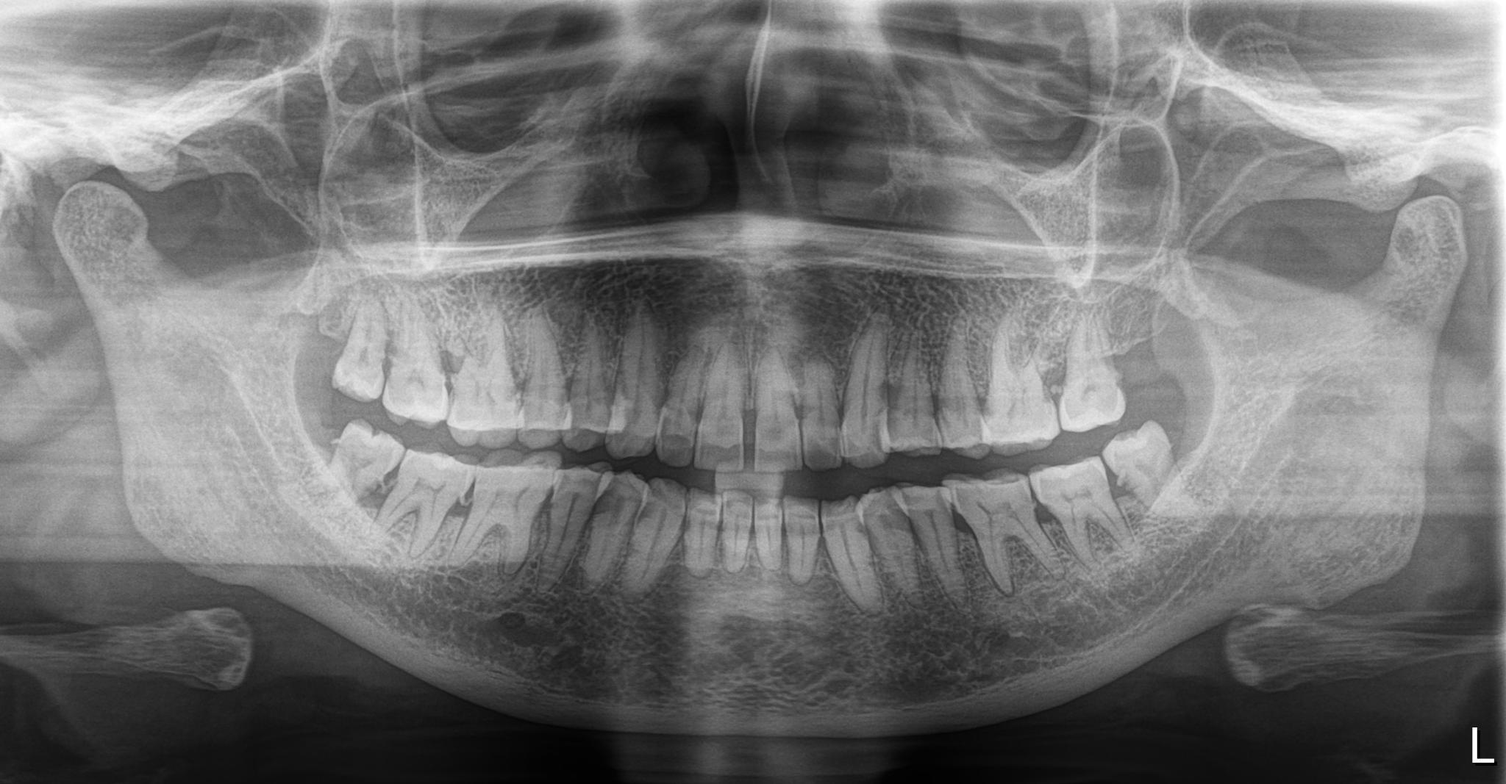Impacted Third Molar: (1101, 437, 1205, 509), (309, 417, 396, 503)
Missing Tooth: (1118, 318, 1189, 416), (292, 287, 345, 393)
